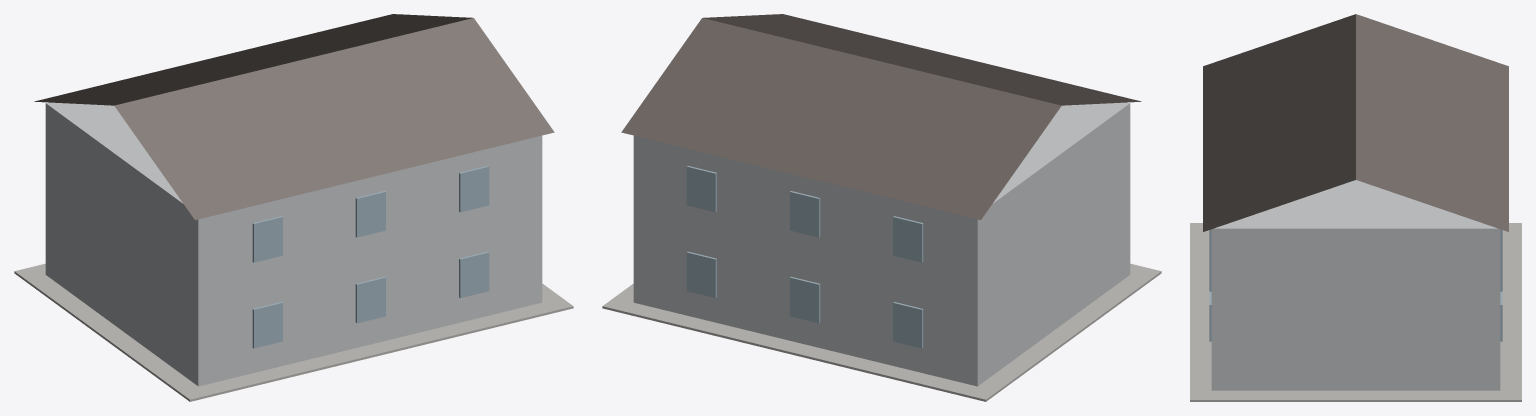
Rendered from american-family.glb.
3 renders of one model, left to right at view 1: azimuth 30°, elevation 25°; view 2: azimuth 150°, elevation 25°; view 3: azimuth 270°, elevation 25°, orthographic. The views are drawn at different scales.
Parts seen in each view (by area): view 1: House; view 2: House; view 3: House.
Part boxes in pixels (box(x1,y1,x2,y2)): House: box(14, 14, 573, 401); House: box(602, 14, 1161, 401); House: box(1190, 14, 1521, 401).
Bounding box in the file's own units: 14.5 × 8.28 × 11.5.
